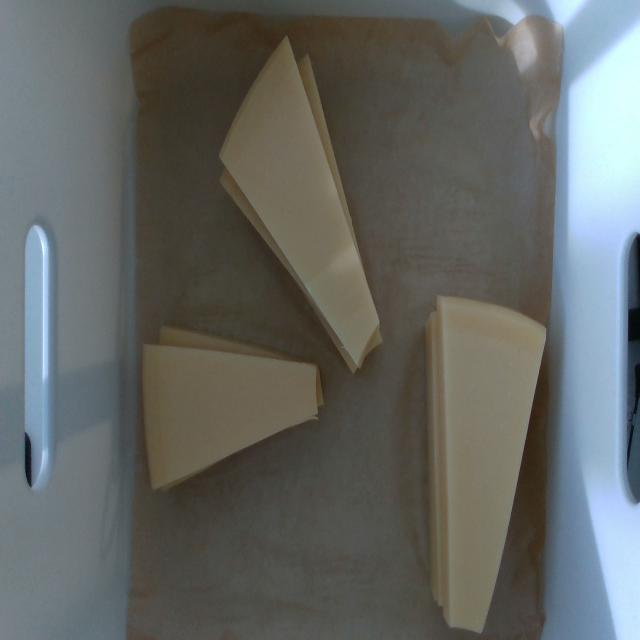cheese: (220, 40, 380, 368), (442, 297, 546, 635), (144, 345, 317, 486)
